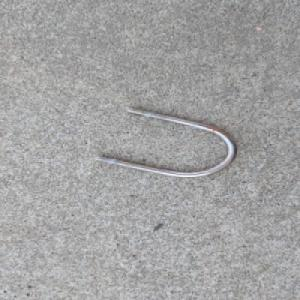ClampPart: (87, 105, 237, 179)
